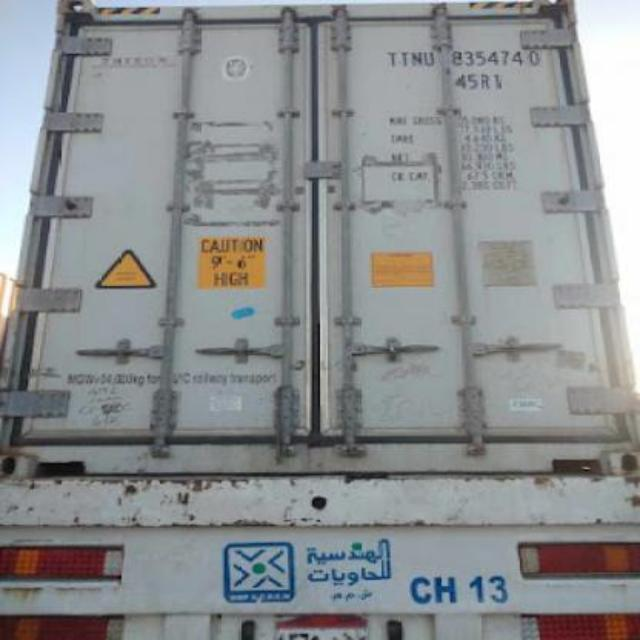0: (530, 50, 540, 66)
3: (464, 50, 476, 66)
4: (486, 50, 499, 64), (511, 51, 524, 64)
5: (474, 50, 486, 66)
7: (500, 49, 510, 65)
8: (452, 50, 462, 66)
N: (410, 50, 422, 66)
T: (388, 50, 398, 66), (400, 50, 410, 66)
U: (422, 51, 436, 67)
